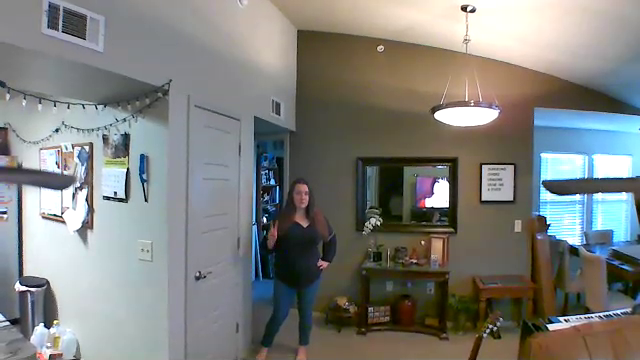peace: (265, 214, 283, 249)
